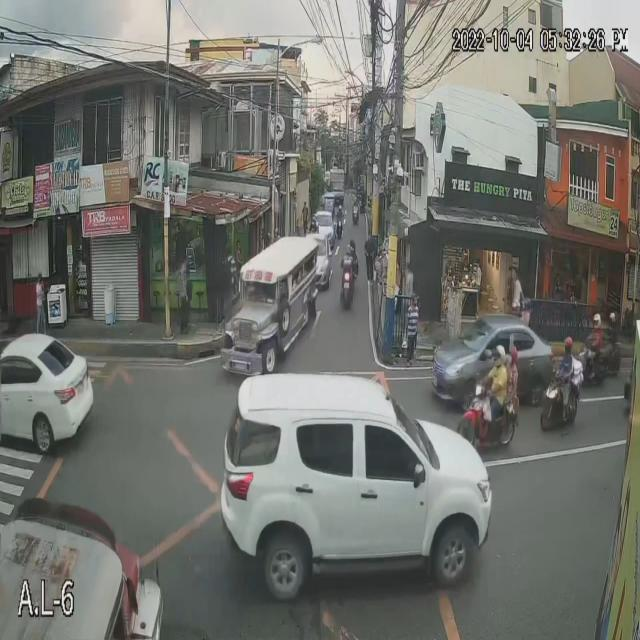Full-Faced: (486, 344, 504, 372), (605, 310, 618, 337), (507, 346, 519, 374), (564, 331, 575, 354), (591, 310, 602, 331), (348, 238, 357, 259), (337, 203, 342, 217)
